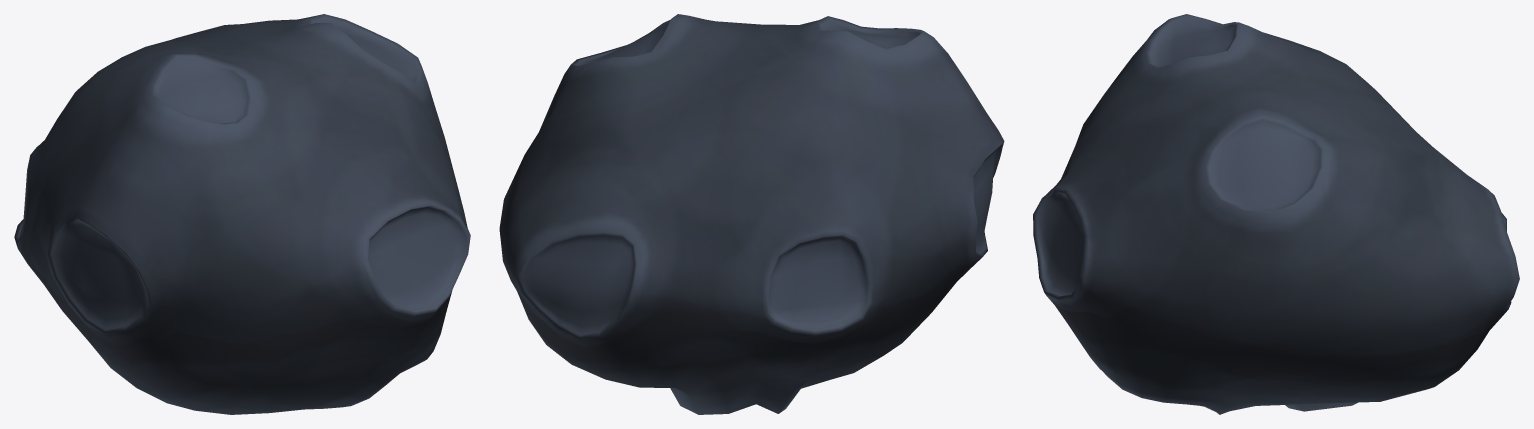
File: Asteroid_Mesh_1.fbx
3 views of the same model, side by side, from view 1: azimuth 30°, elevation 25°; view 2: azimuth 150°, elevation 25°; view 3: azimuth 270°, elevation 25° (orthographic). The views are drawn at different scales.
Parts seen in each view (by area): view 1: Asteroid_Mesh_1; view 2: Asteroid_Mesh_1; view 3: Asteroid_Mesh_1.
Part boxes in pixels (<box>): Asteroid_Mesh_1: <box>14,14,470,414</box>; Asteroid_Mesh_1: <box>499,14,1004,414</box>; Asteroid_Mesh_1: <box>1033,14,1519,414</box>.
Bounding box in the file's own units: 6.57 × 5.75 × 7.37.
